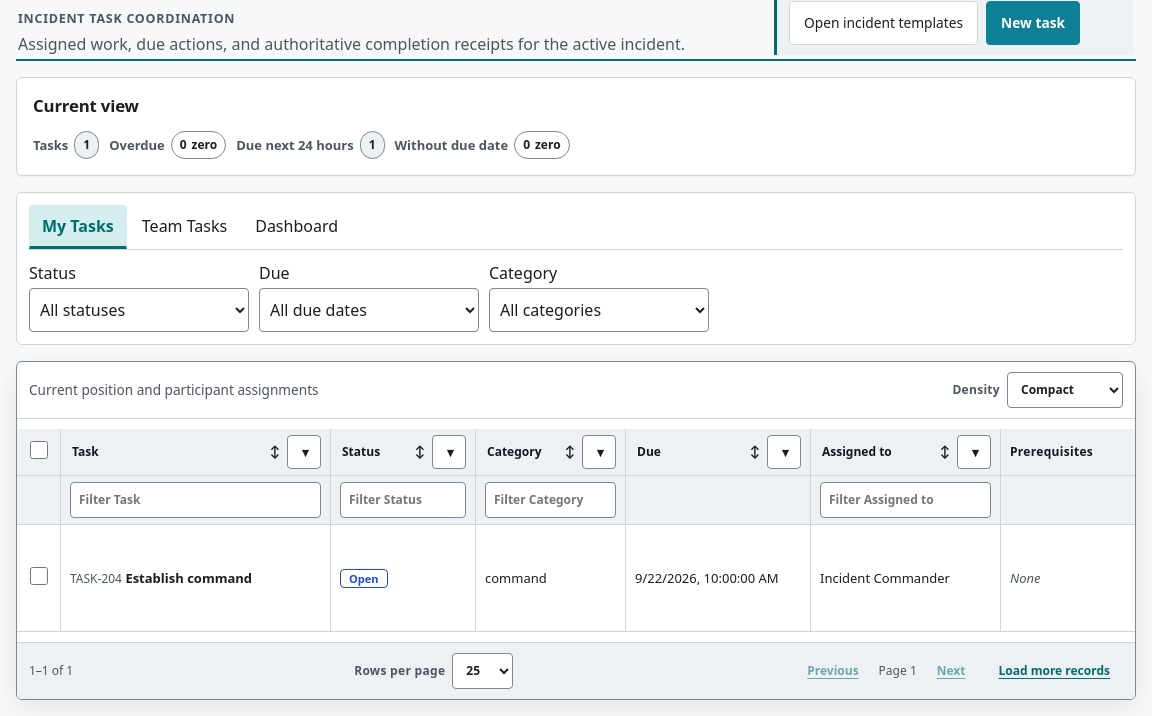
Test: tasks surface › loads the next page of tasks into the table
(page scrolled)
Expected: the text "Establish command" is shown, top-left (125, 569), bottom-right (252, 587)
Expected: the text "Open shelter" is not shown
Click the button "Load more records".
click(1054, 671)  # box top-left (986, 653), bottom-right (1123, 689)
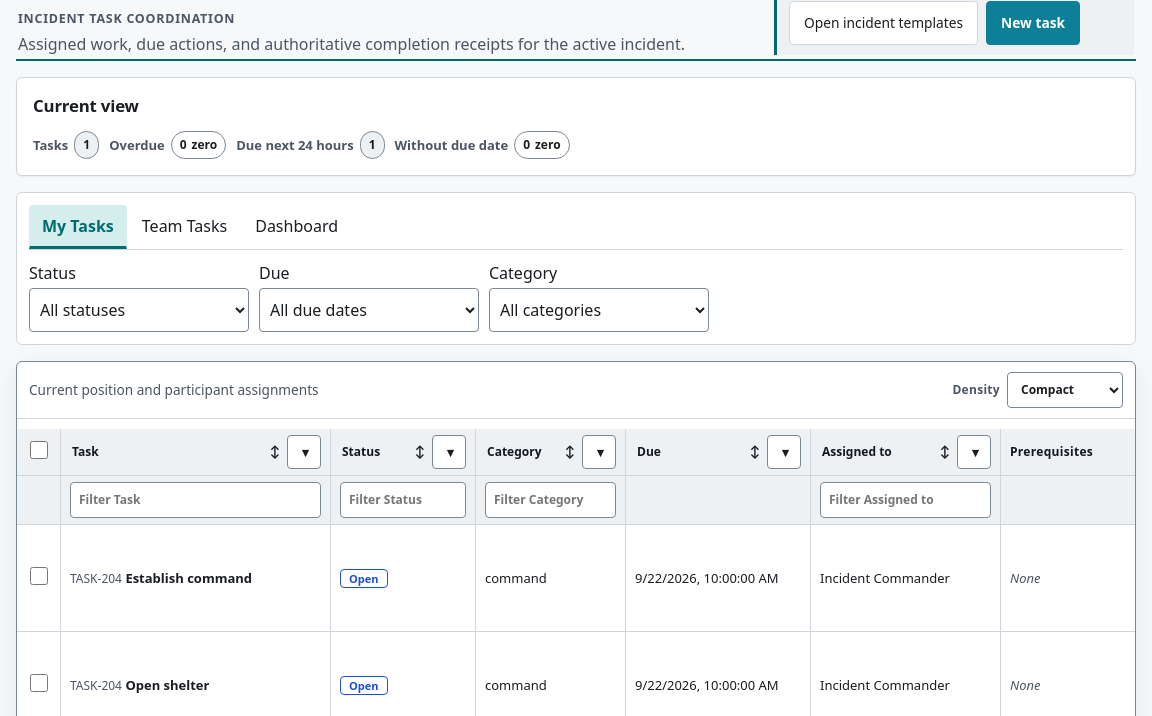
Now the text "Open shelter" is shown, box top-left (125, 676), bottom-right (210, 694)
